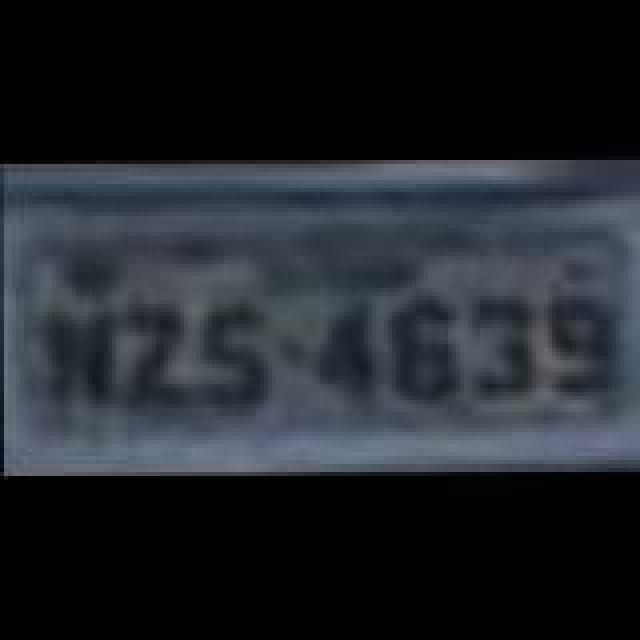3: (468, 292, 544, 408)
4: (306, 302, 378, 414)
6: (382, 300, 462, 416)
9: (542, 284, 622, 404)
N: (42, 312, 122, 416)
S: (196, 302, 272, 414)
Z: (124, 306, 200, 414)
